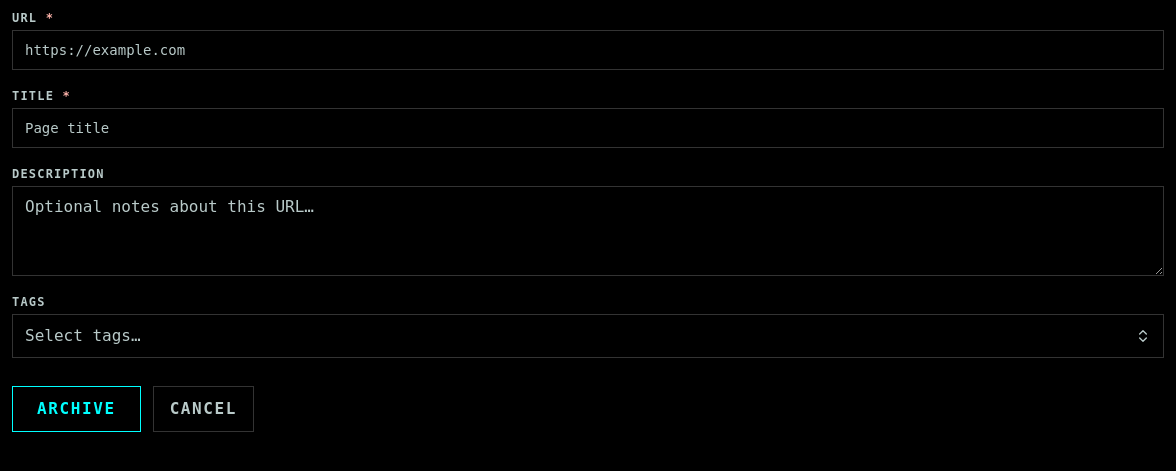
Scenario: BookmarkForm — URL field validation (REQ-5) › should show invalid URL error when URL is not a valid URL format
Type "not-a-url" into the field labelled "URL *". click: (588, 50)
box: [12,30,1164,70]
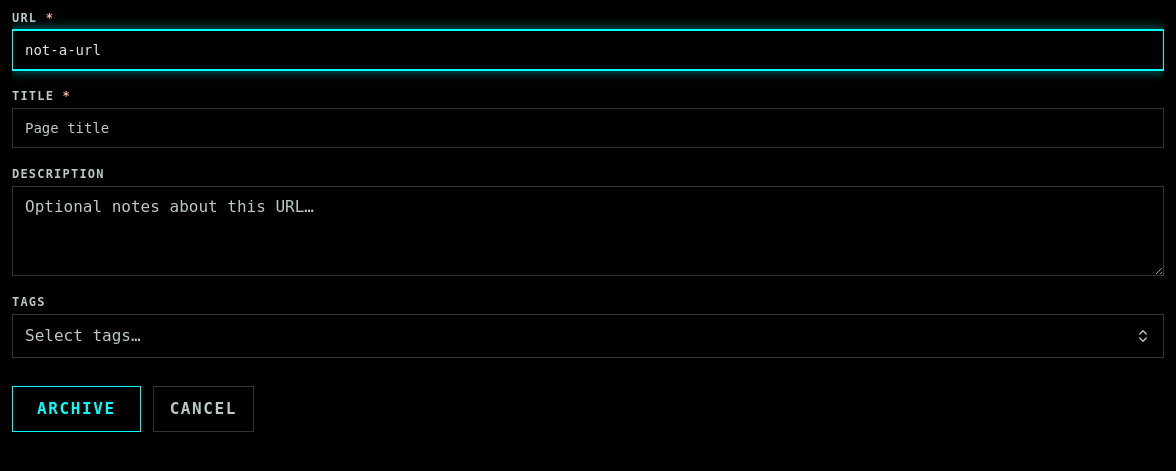
Press Tab
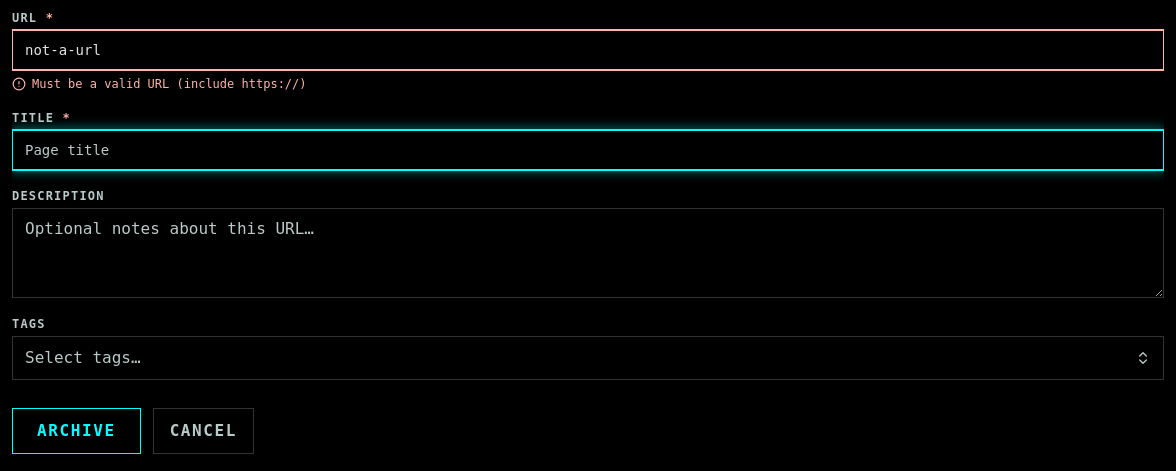
Result: the message shows "valid URL" at [32,77,306,91]
